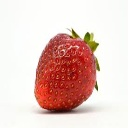strawberry: (34, 27, 101, 111)
